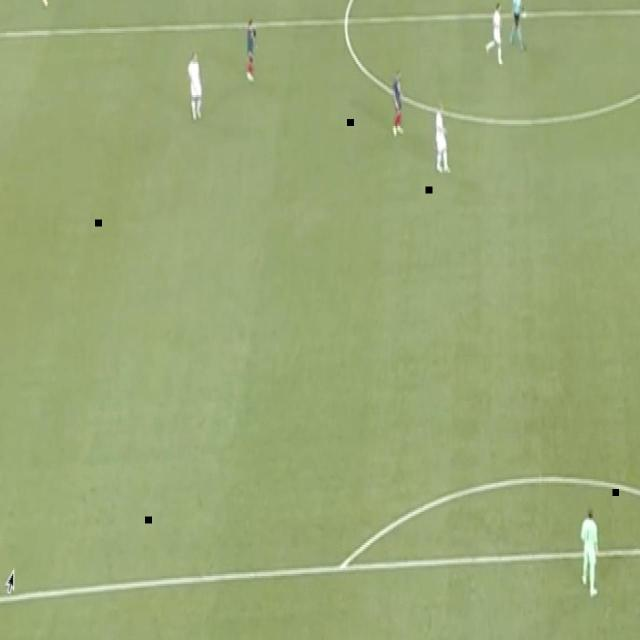player-white: (580, 505, 600, 602), (434, 100, 452, 176), (186, 49, 204, 125), (484, 0, 504, 68), (391, 68, 407, 140), (245, 16, 260, 82), (508, 0, 526, 52)
